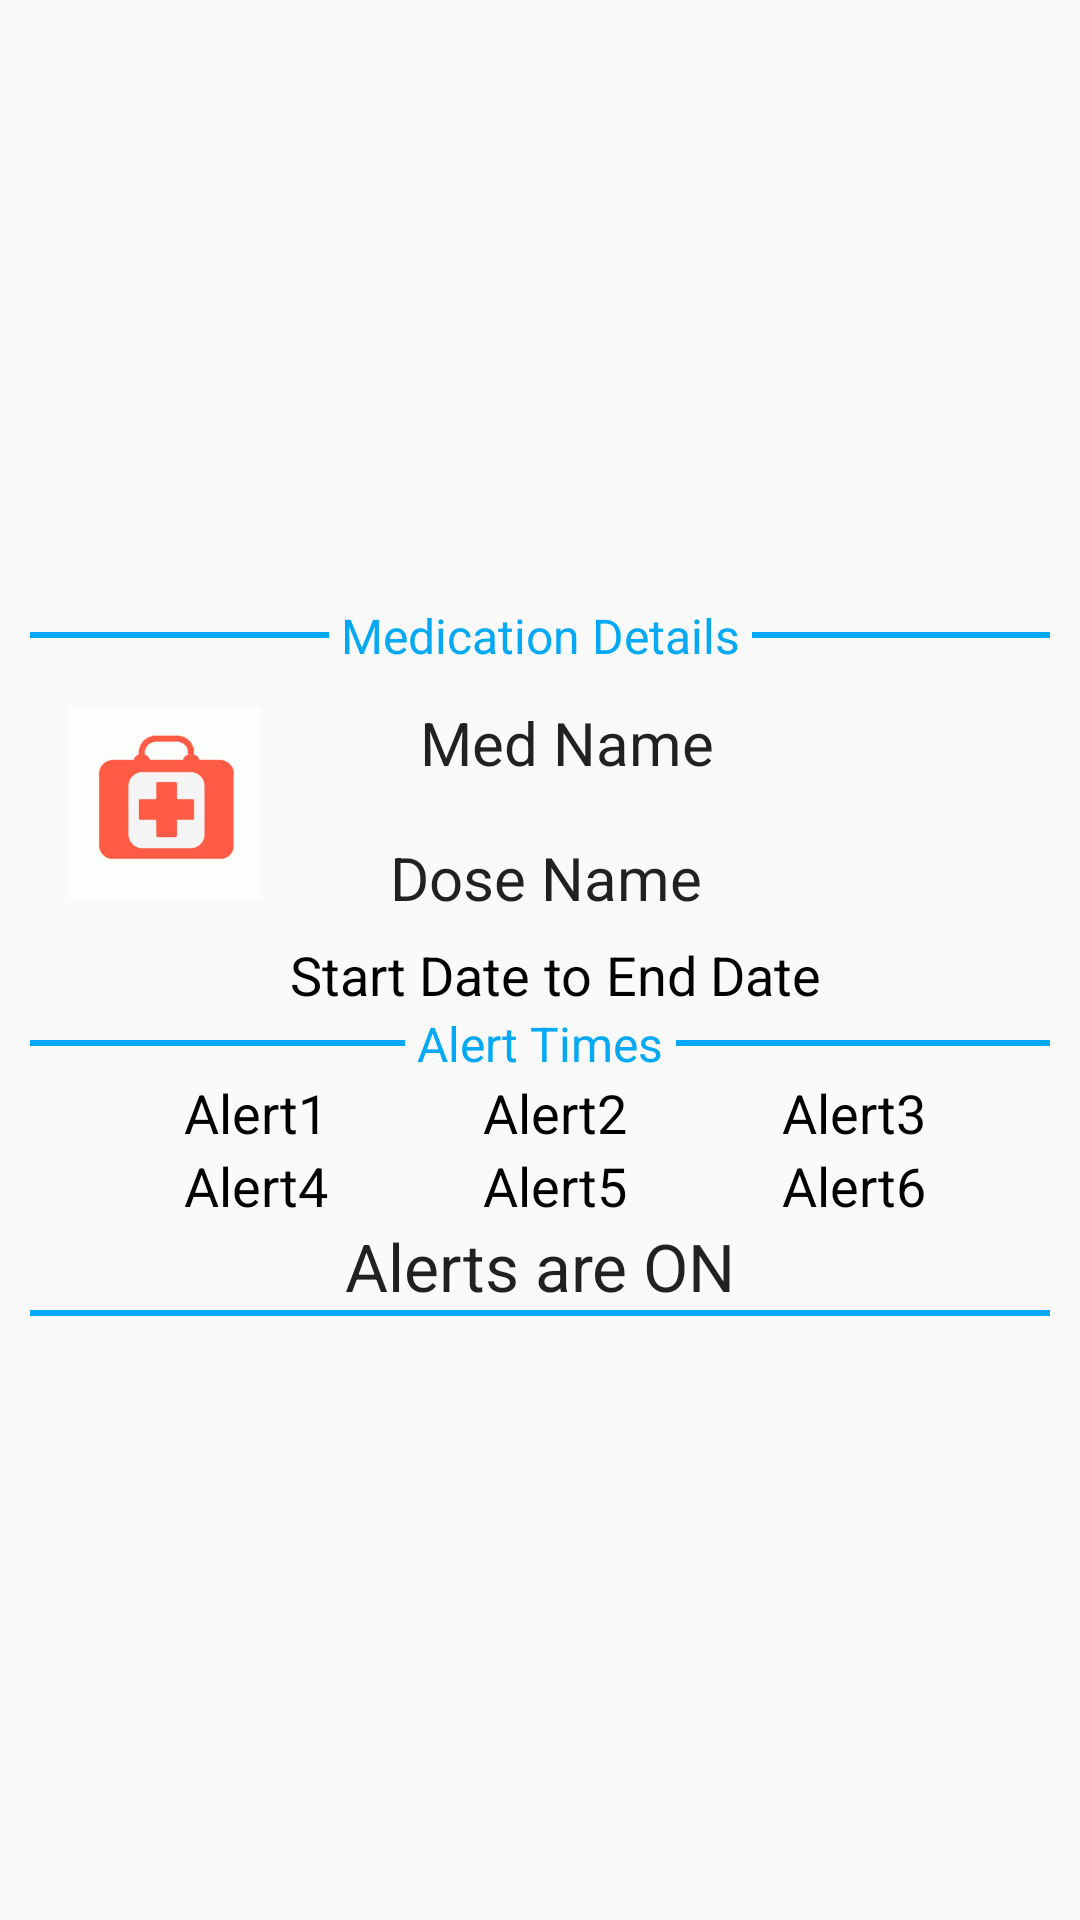

Named icons in this screenshot (1080px x 1920px) and their bounding boxes, (x1, y1, x2, y2):
med kit: (99, 735, 234, 859)
